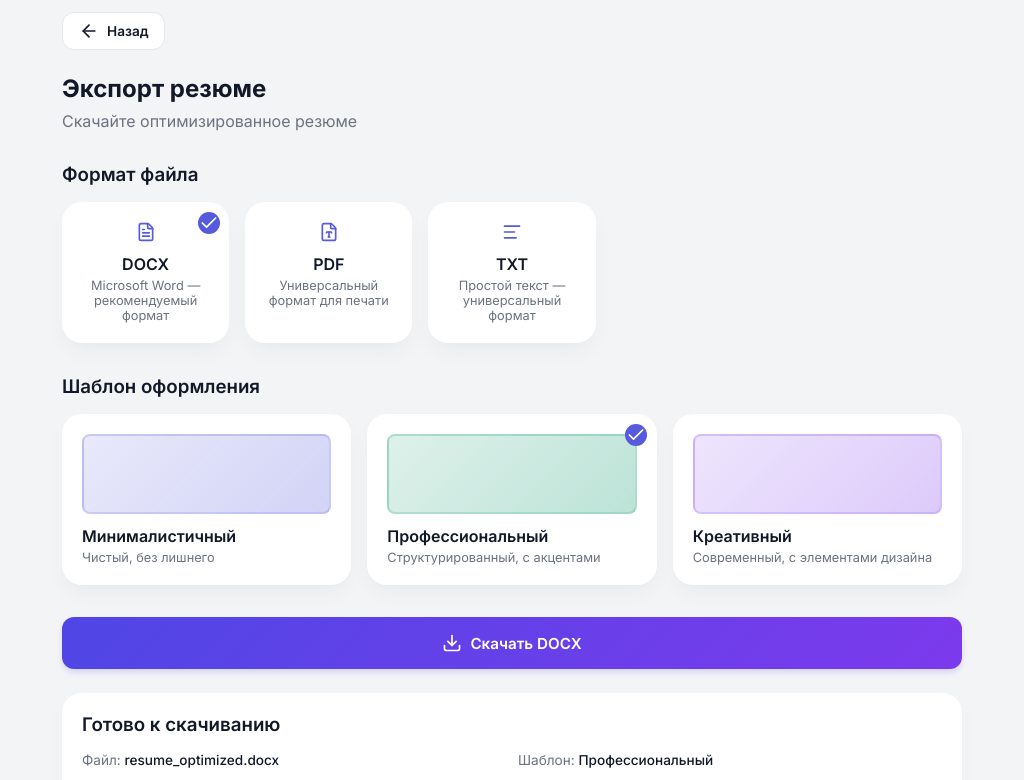
ExportPage — Functional: Format selection › clicking DOCX card changes button to "Скачать DOCX"
Expected: the text "DOCX" is shown, [122, 254, 169, 274]
# First switch to TXT, then back to DOCX
Step 1. Click the text "TXT" → point(512, 264), box [496, 254, 528, 274]
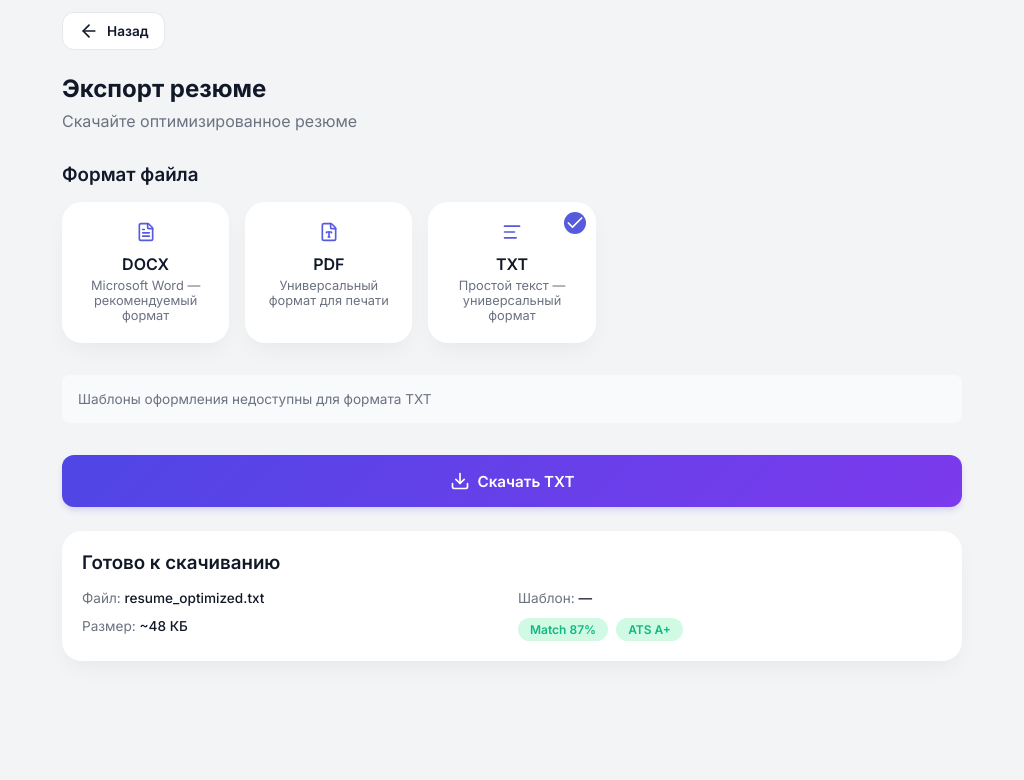
Expected: the button "Скачать TXT" is shown, [62, 455, 962, 507]
Step 2. Click the text "DOCX" → point(146, 264), box [122, 254, 169, 274]
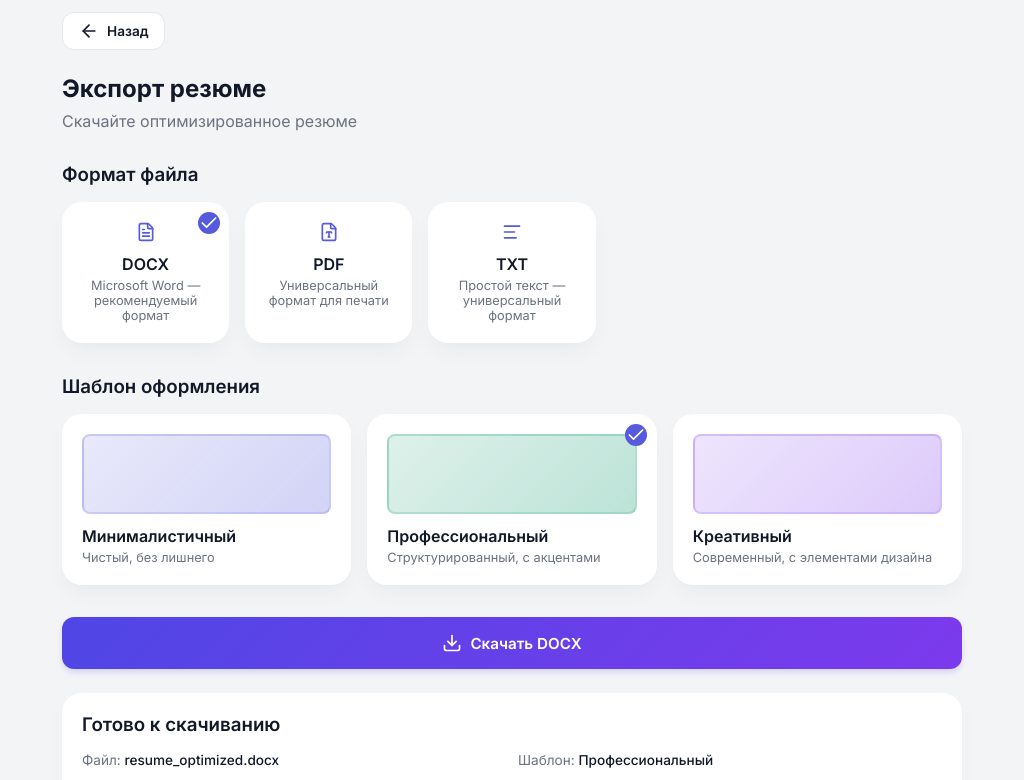
Expected: the button "Скачать DOCX" is shown, [62, 617, 962, 669]
